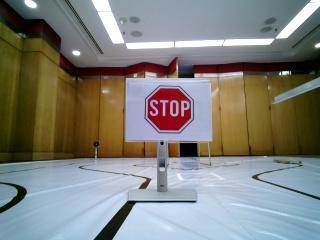stop: (129, 83, 210, 138)
